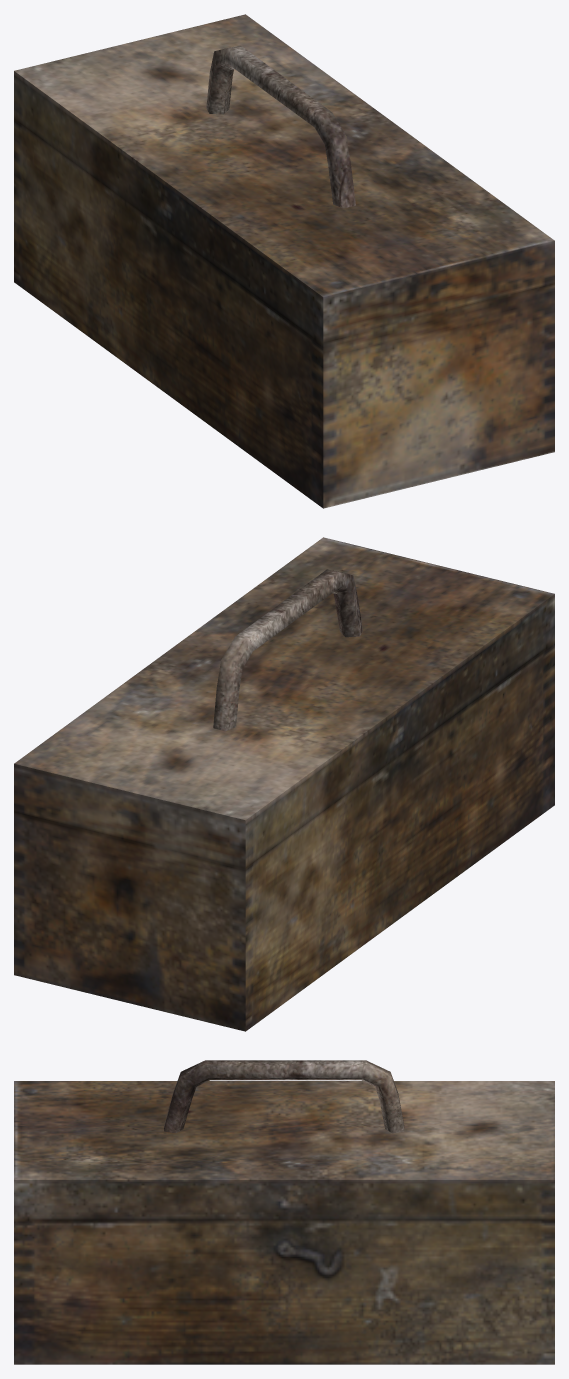
The model's file is wooden_box.FBX.
3 views of the same model, one above another, from view 1: azimuth 30°, elevation 25°; view 2: azimuth 150°, elevation 25°; view 3: azimuth 270°, elevation 25° (orthographic). The views are drawn at different scales.
Visible parts, largest first — view 1: wooden_box; view 2: wooden_box; view 3: wooden_box.
Part boxes in pixels (bbox=[...]): wooden_box: bbox=[14, 14, 554, 508]; wooden_box: bbox=[14, 537, 554, 1031]; wooden_box: bbox=[14, 1060, 554, 1364].
Size of the model in its own units: 0.0968 by 0.1146 by 0.2239.
